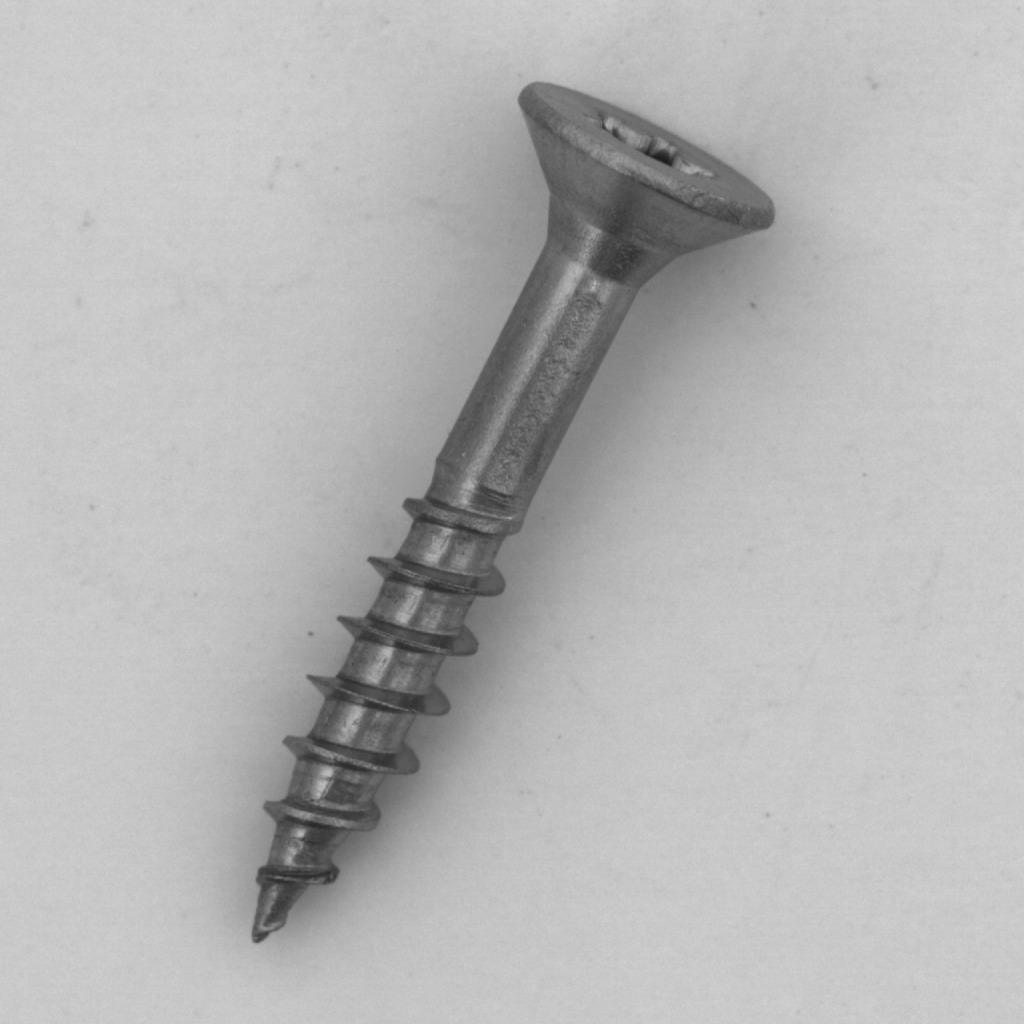good: (222, 62, 796, 956)
